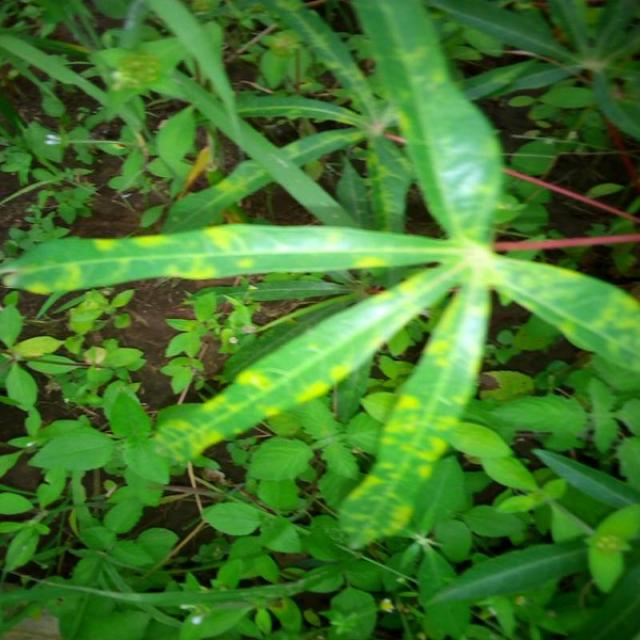cassava leaf: (1, 0, 638, 551)
